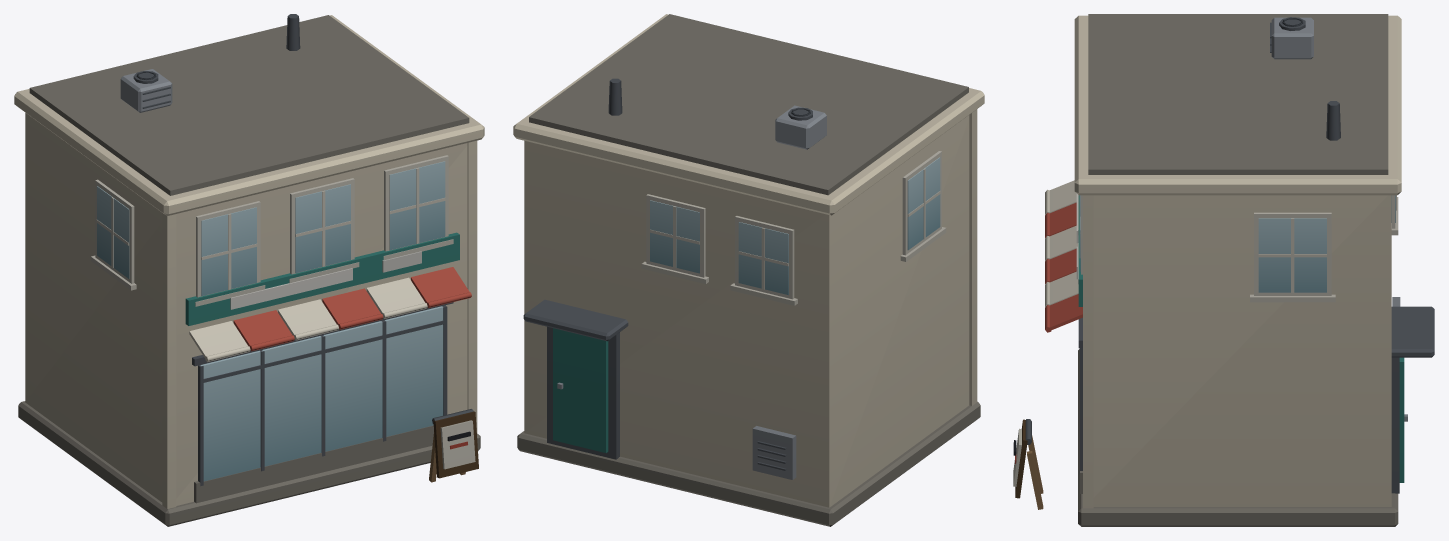
File: shop-awning-01.glb
3 renders of one model, left to right at view 1: azimuth 30°, elevation 25°; view 2: azimuth 150°, elevation 25°; view 3: azimuth 270°, elevation 25°, orthographic. The views are drawn at different scales.
Parts seen in each view (by area): view 1: shop_awning_01; view 2: shop_awning_01; view 3: shop_awning_01.
Boxes of the visible parts, x1,y1,x2,y2 form: shop_awning_01: (14,14,484,526); shop_awning_01: (513,14,984,526); shop_awning_01: (1013,14,1434,526).
Size of the model in its own units: 5.8 by 6.3 by 6.18.
